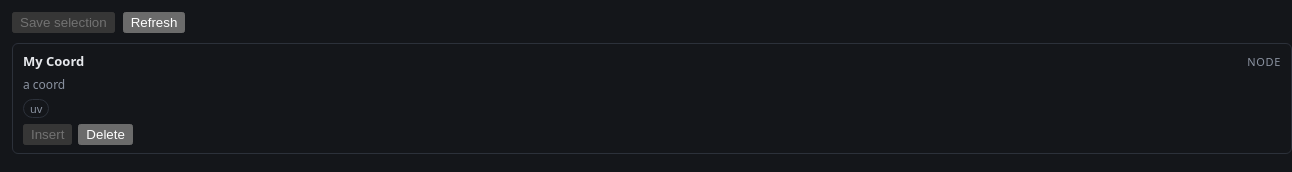
Test: LibraryPanel › deletes an item behind a confirm and refreshes
The image size is (1292, 172).
Check: the text "My Coord" is shown, box [23, 52, 84, 70]
Step 1. Click the button "Delete" → click(106, 134), box [78, 124, 133, 145]
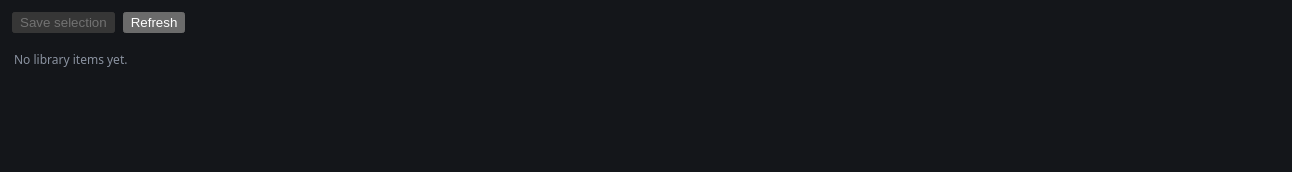
Check: the text "My Coord" is gone
